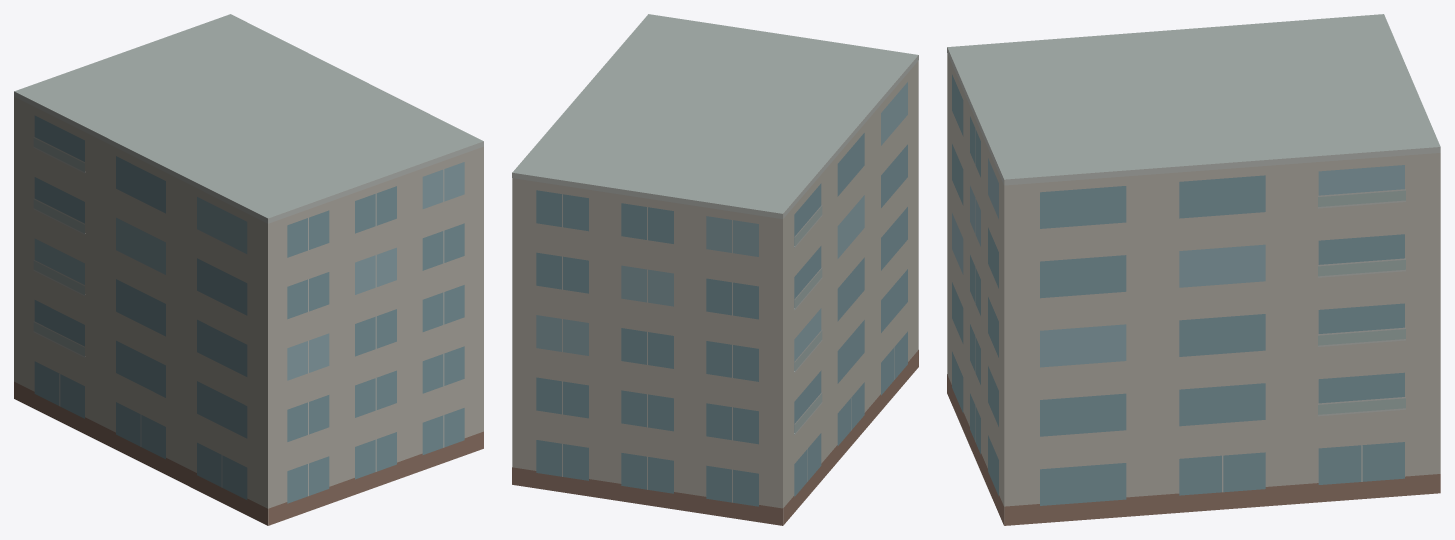
The model's file is survey-upis-32634874.glb.
3 renders of one model, left to right at view 1: azimuth 30°, elevation 25°; view 2: azimuth 150°, elevation 25°; view 3: azimuth 270°, elevation 25°, orthographic. The views are drawn at different scales.
Parts seen in each view (by area): view 1: survey-upis-32634874.tmp; view 2: survey-upis-32634874.tmp; view 3: survey-upis-32634874.tmp.
Part boxes in pixels (x1,y1,x2,y2): survey-upis-32634874.tmp: (14, 14, 483, 525); survey-upis-32634874.tmp: (512, 14, 918, 525); survey-upis-32634874.tmp: (947, 14, 1440, 525).
Size of the model in its own units: 14.68 by 14.3 by 18.48.
